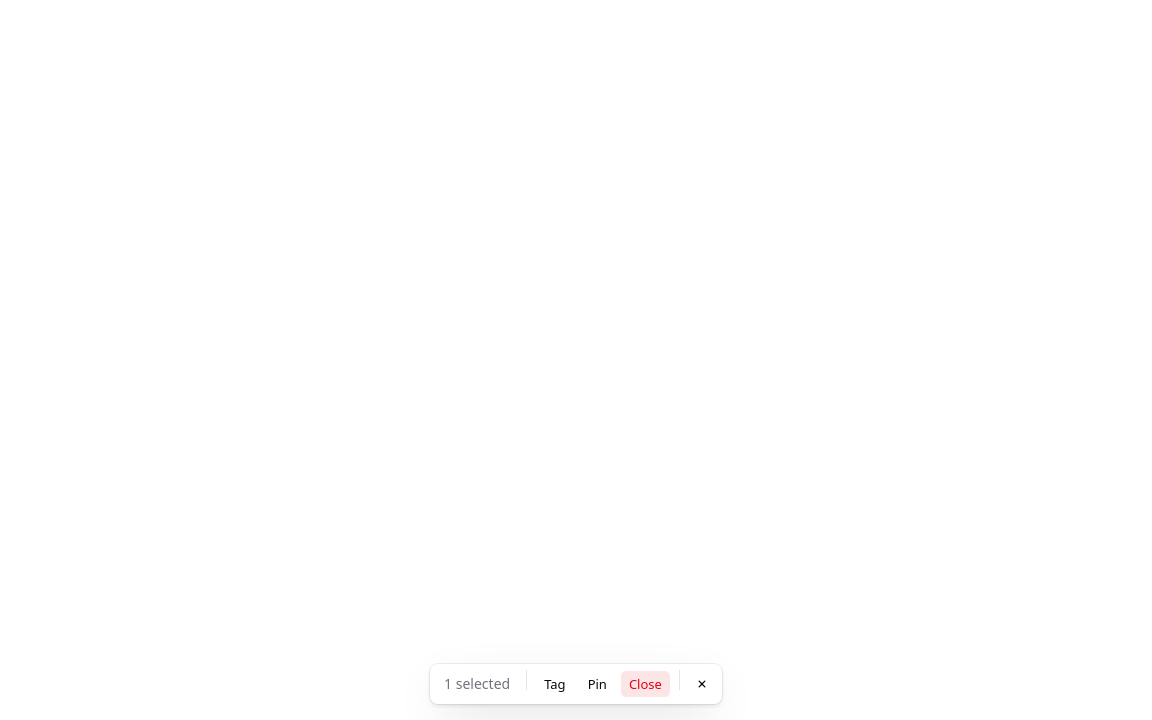
BulkBar › softens the same way for one exited session
Click the button "Close".
click(645, 684)  # box x1=620 y1=670 x2=671 y2=698
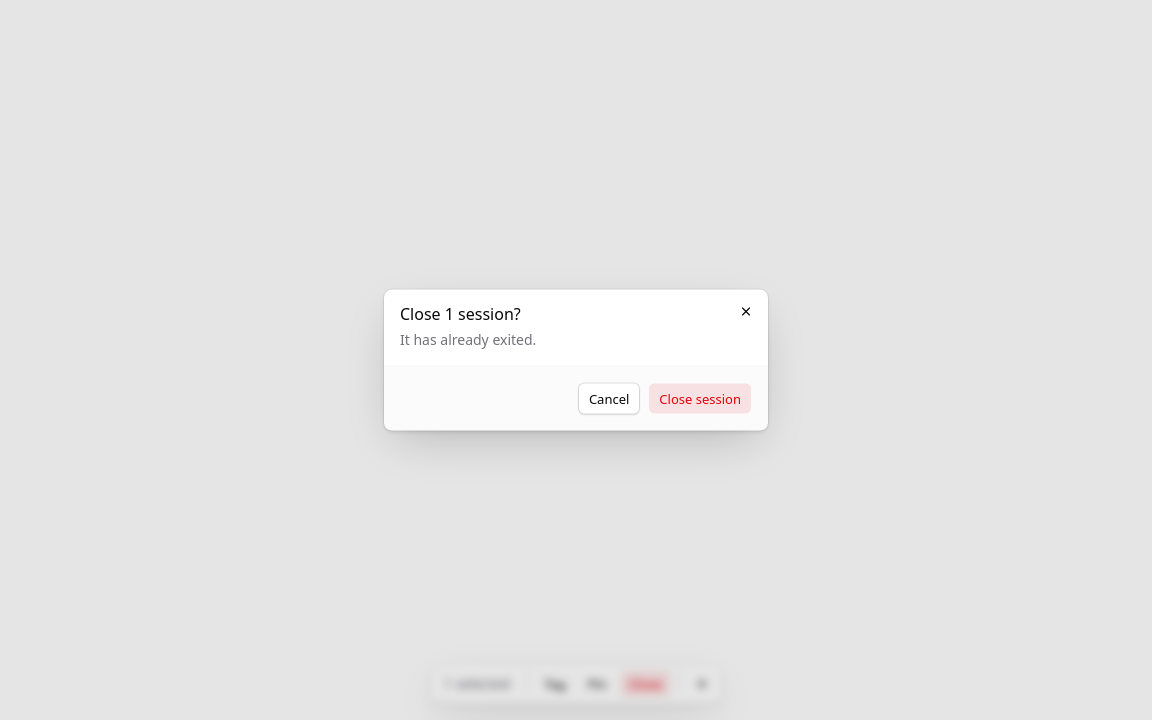
Expected: the text "It has already exited." is shown, x1=400 y1=330 x2=536 y2=348
